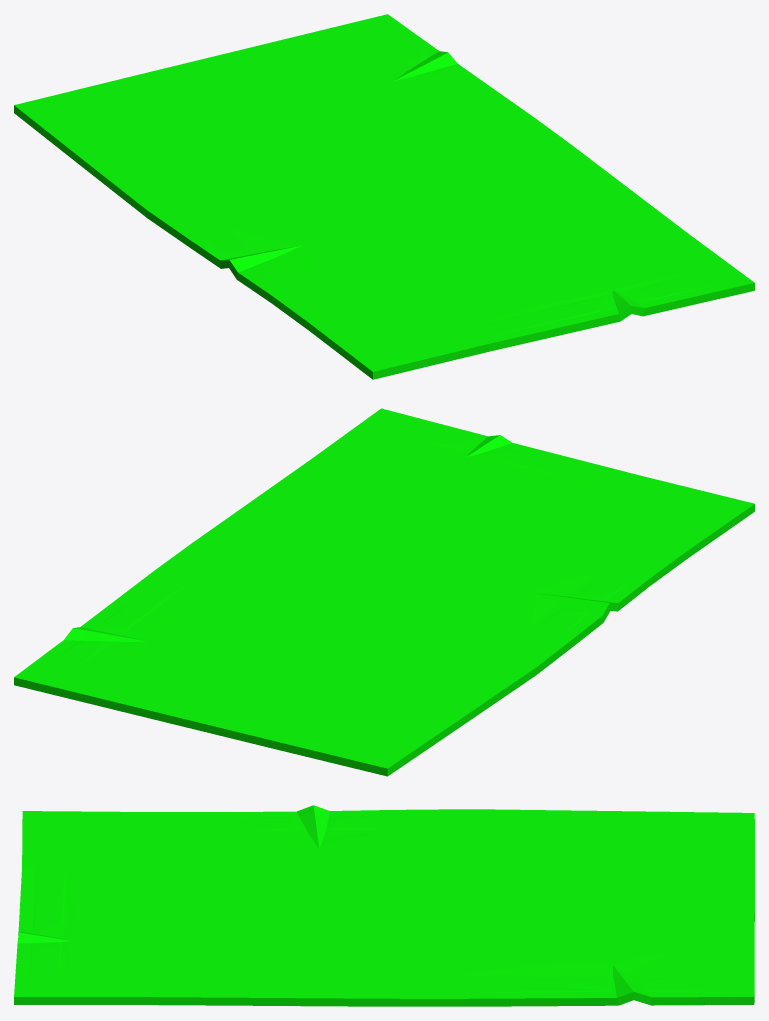
File: SM_Carpet_Tent_B_Fantasy.fbx
3 views of the same model, one above another, from view 1: azimuth 30°, elevation 25°; view 2: azimuth 150°, elevation 25°; view 3: azimuth 270°, elevation 25° (orthographic).
Visible parts, largest first — view 1: carpet-tent-b-fantasy; view 2: carpet-tent-b-fantasy; view 3: carpet-tent-b-fantasy.
Boxes of the visible parts, x1=… form: carpet-tent-b-fantasy: x1=14, y1=14, x2=754, y2=379; carpet-tent-b-fantasy: x1=14, y1=408, x2=754, y2=776; carpet-tent-b-fantasy: x1=14, y1=805, x2=754, y2=1006.
Size of the model in its own units: 1.53 by 0.0535 by 2.53.
